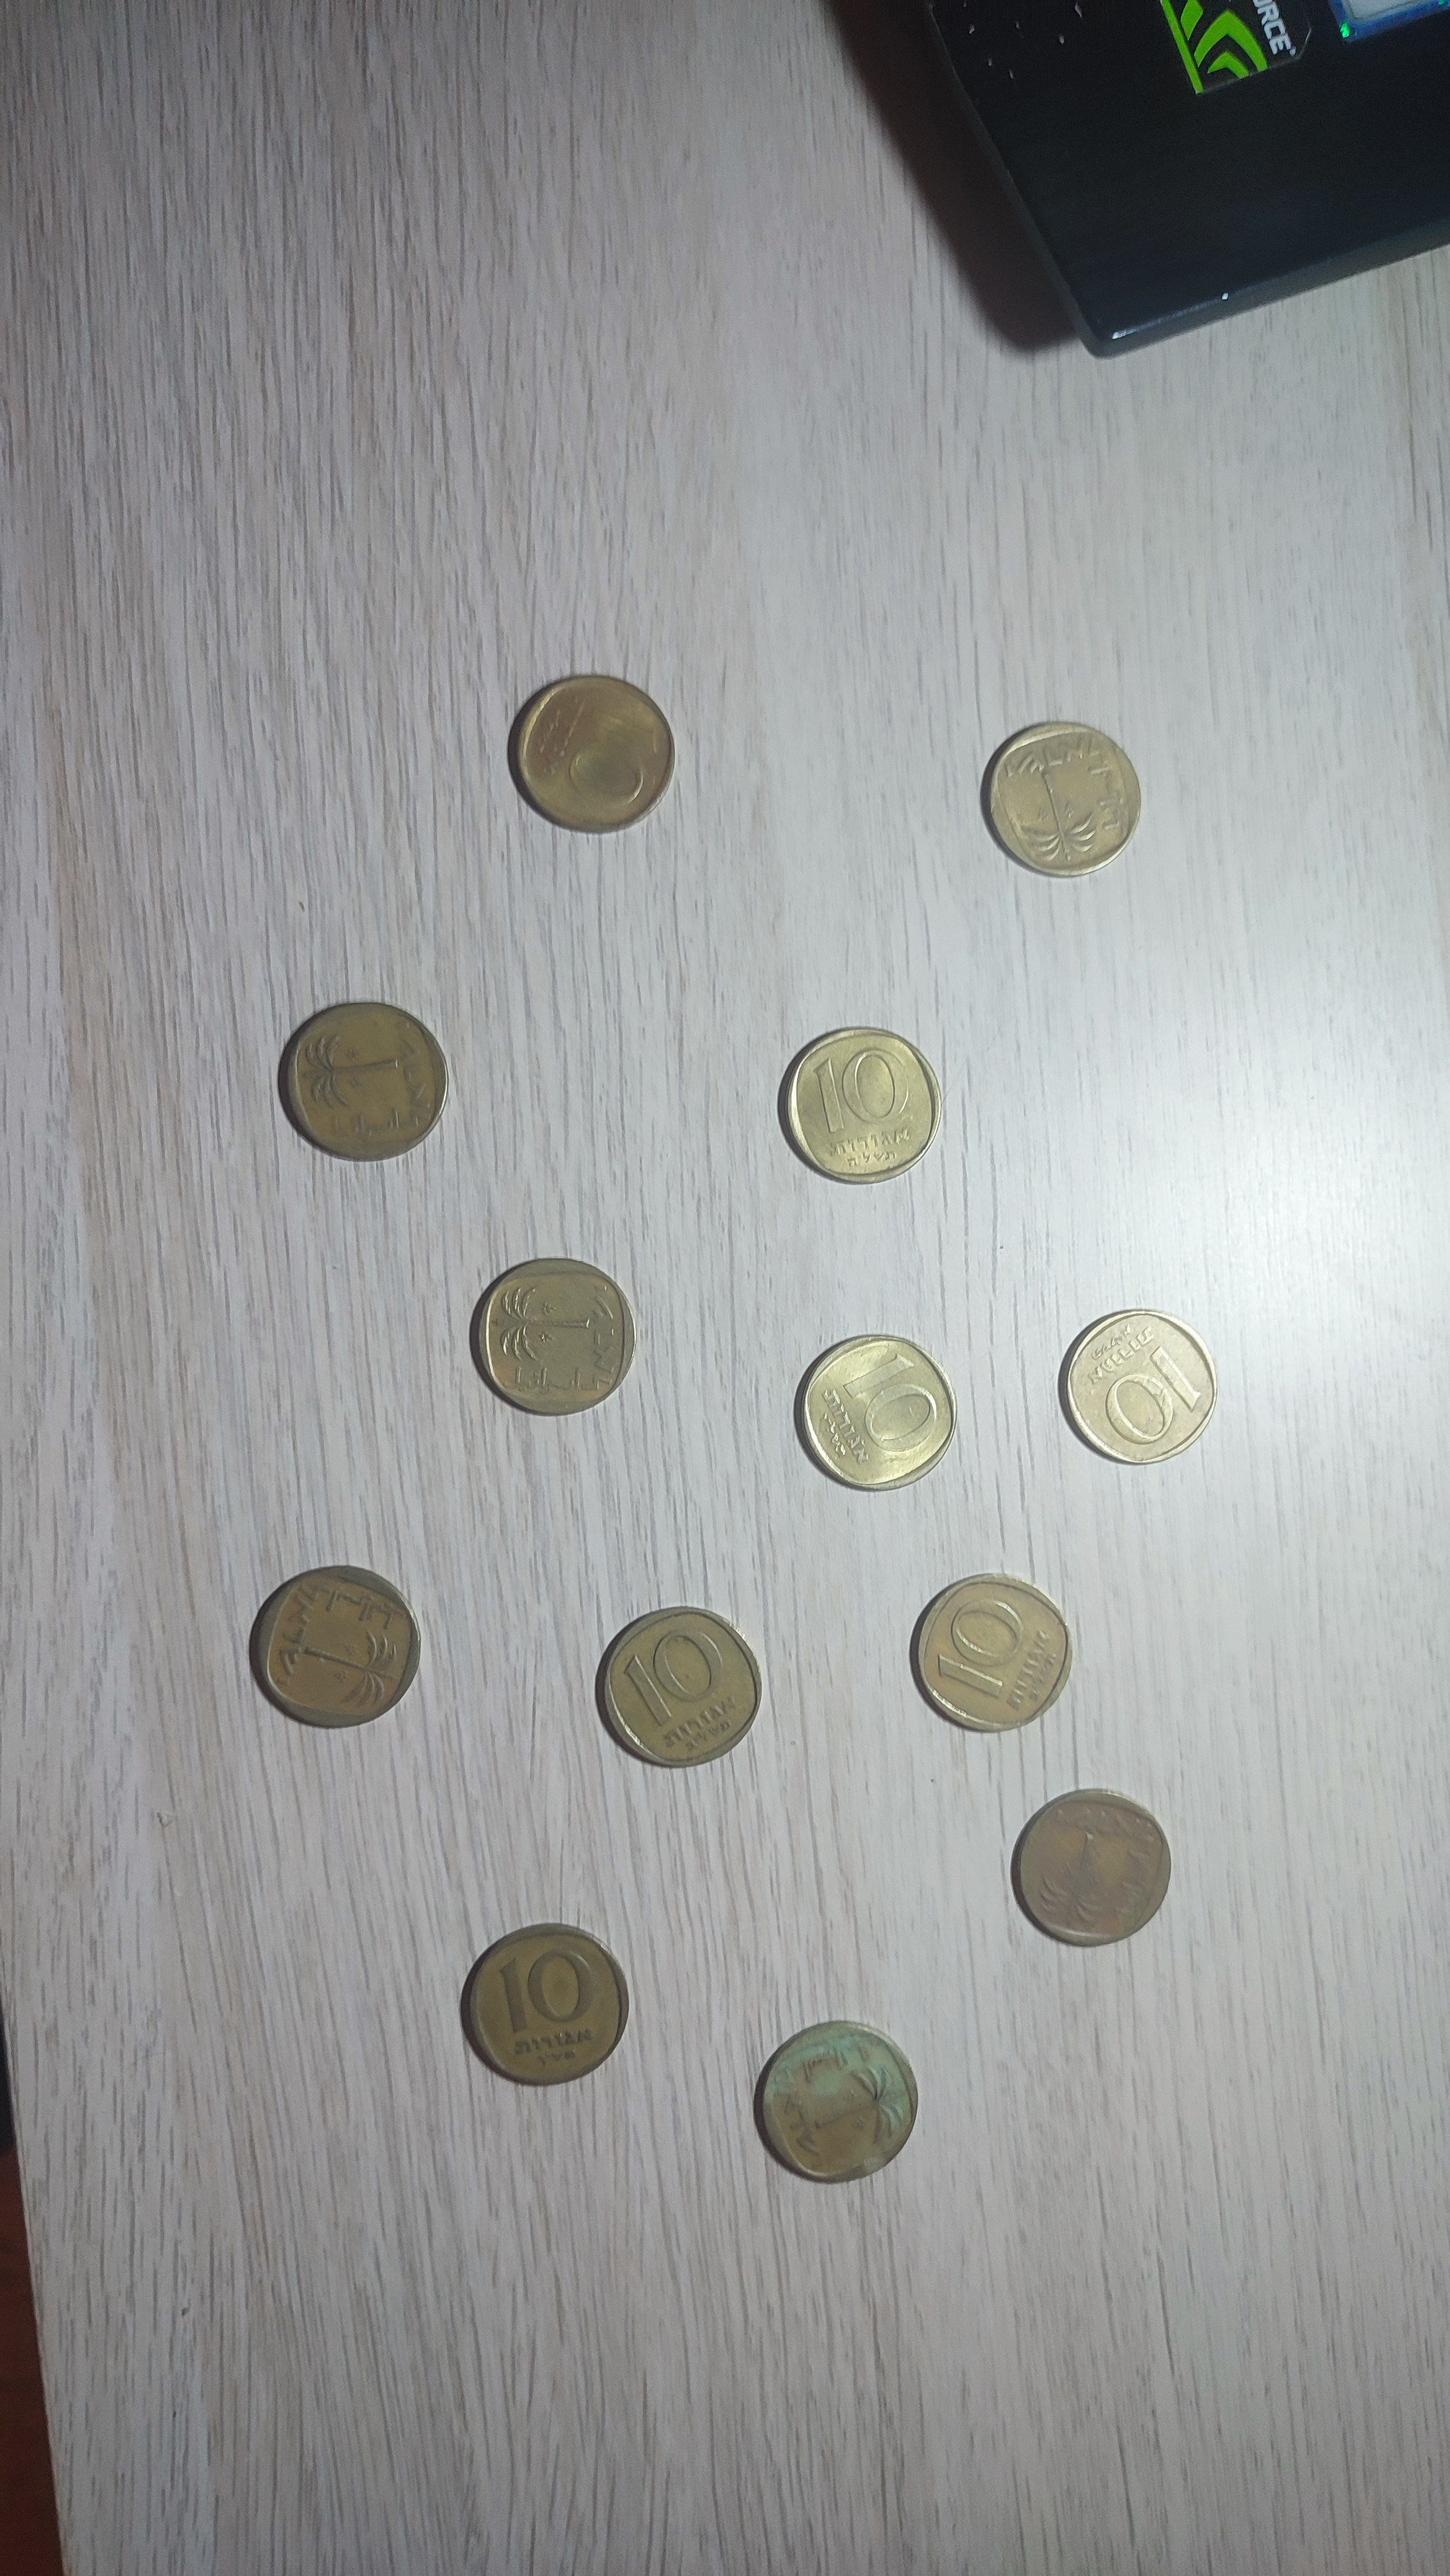10 old agora brown: (279, 998, 453, 1162), (504, 674, 677, 837), (256, 1566, 423, 1730), (467, 1923, 630, 2088), (760, 2020, 920, 2185), (601, 1606, 760, 1769), (476, 1258, 635, 1417), (783, 1026, 941, 1185), (801, 1332, 958, 1491), (1013, 1789, 1172, 1946), (918, 1575, 1073, 1736), (1065, 1307, 1217, 1467), (988, 722, 1141, 878)
